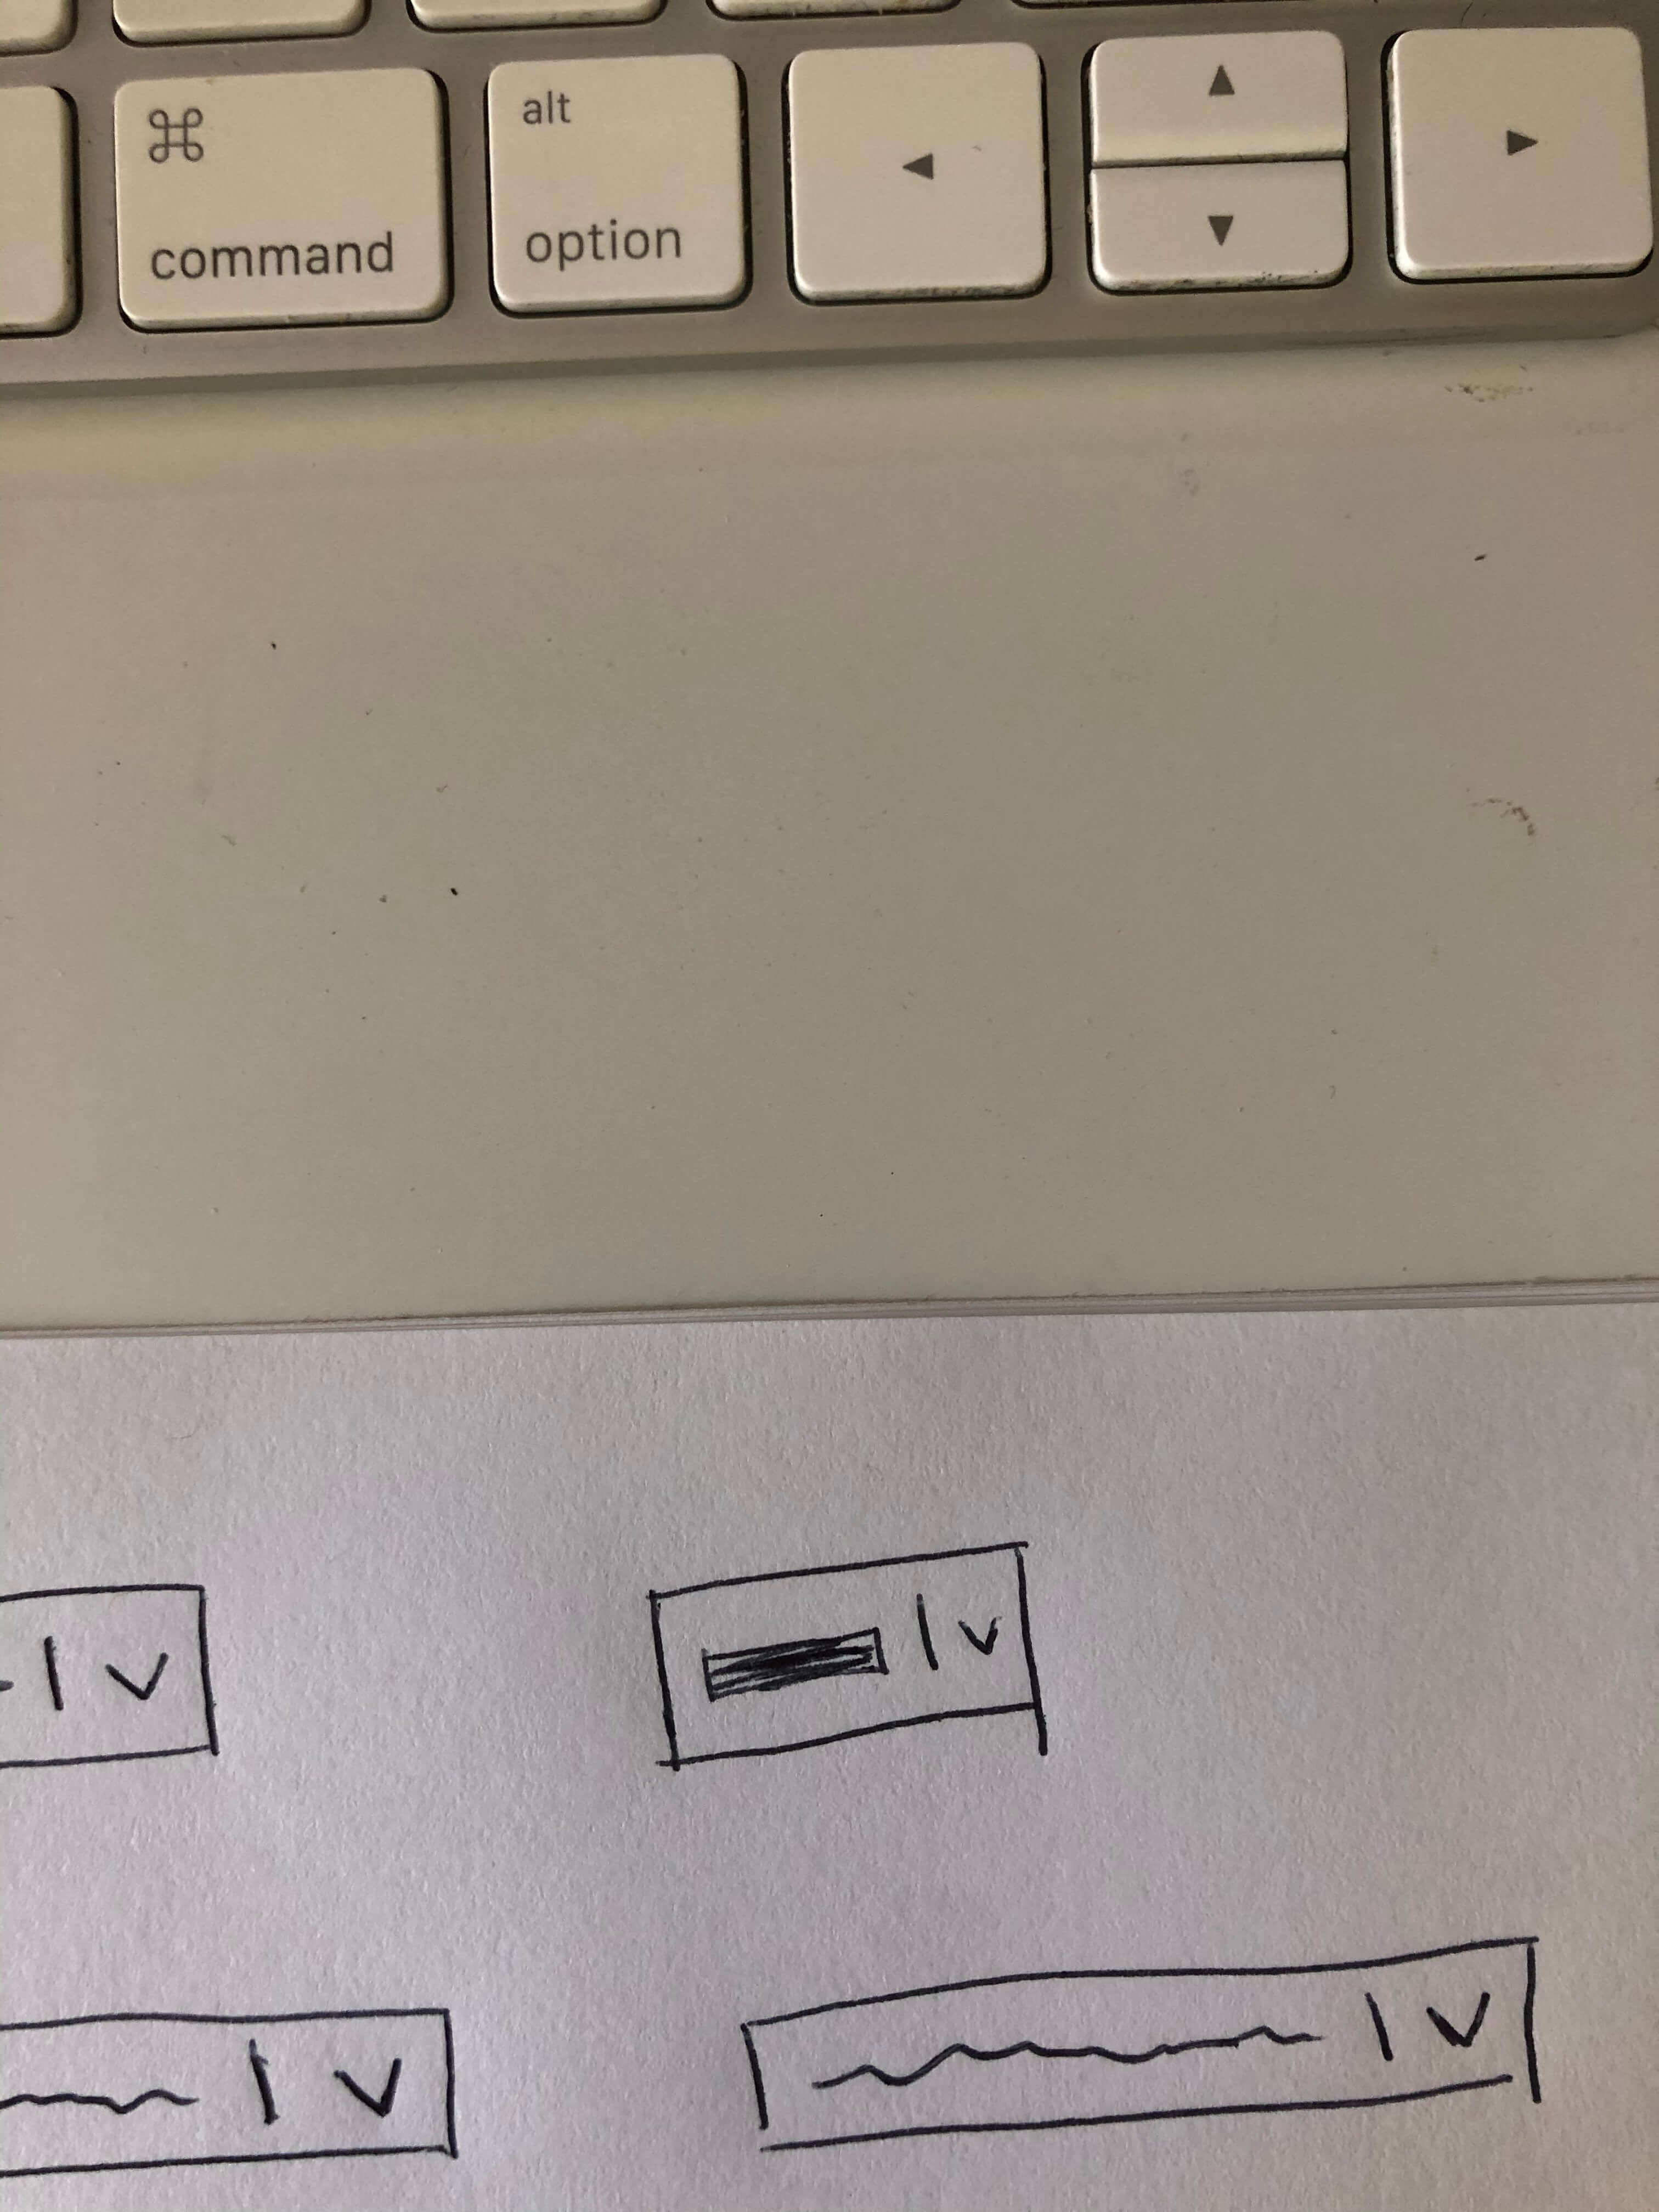split-button: (735, 1916, 1558, 2158)
